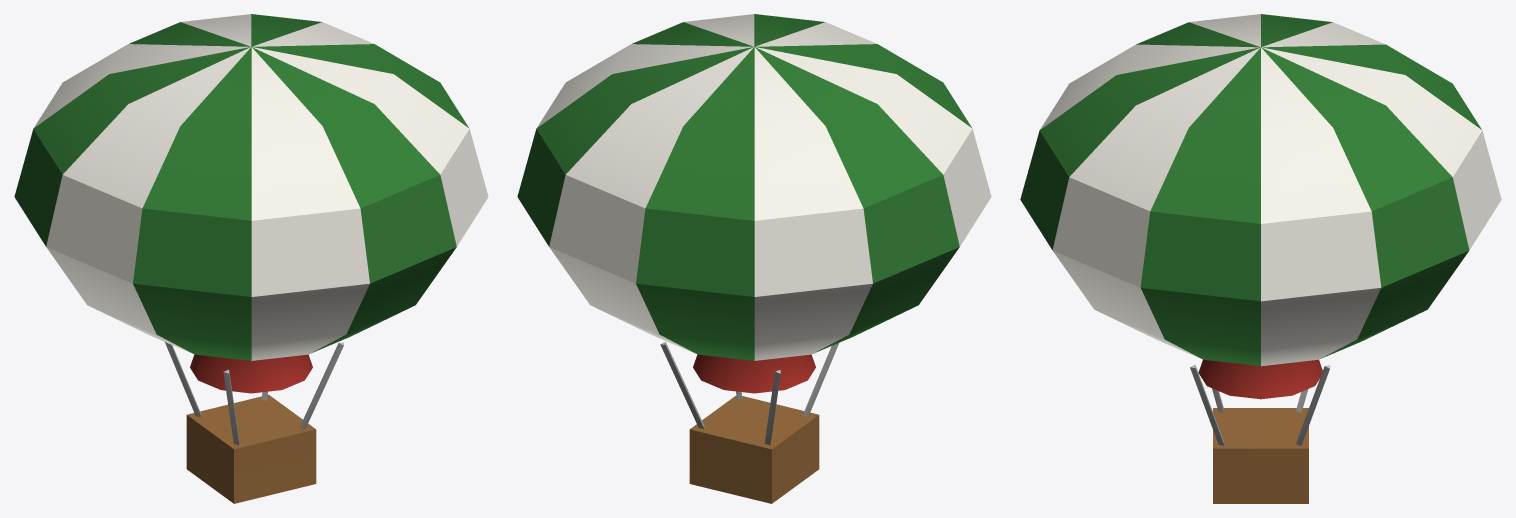
Rendered from balloon.glb.
The picture shows the model from 3 angles, left to right: view 1: azimuth 30°, elevation 25°; view 2: azimuth 150°, elevation 25°; view 3: azimuth 270°, elevation 25°; orthographic projection.
Visible parts, largest first — view 1: soft, trim, basket, hard, string; view 2: soft, trim, basket, hard, string; view 3: soft, trim, basket, hard, string.
Part boxes in pixels (<box>): soft: <box>14,14,469,360</box>; trim: <box>33,14,488,360</box>; basket: <box>186,394,316,503</box>; hard: <box>190,354,312,393</box>; string: <box>165,342,343,445</box>; soft: <box>517,14,972,360</box>; trim: <box>536,14,991,360</box>; basket: <box>689,395,819,503</box>; hard: <box>693,354,815,393</box>; string: <box>660,342,838,445</box>; soft: <box>1020,14,1481,366</box>; trim: <box>1040,14,1501,366</box>; basket: <box>1213,408,1308,503</box>; hard: <box>1198,359,1322,399</box>; string: <box>1190,365,1330,445</box>.
Size of the model in its own units: 1 by 1 by 1.
